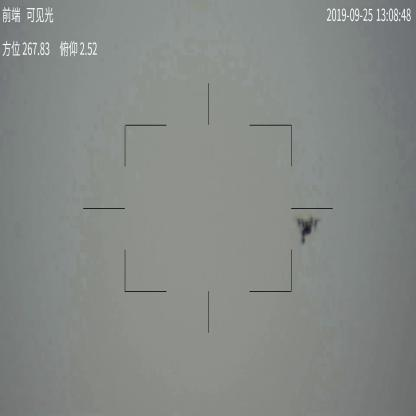uav: (298, 215, 324, 245)
